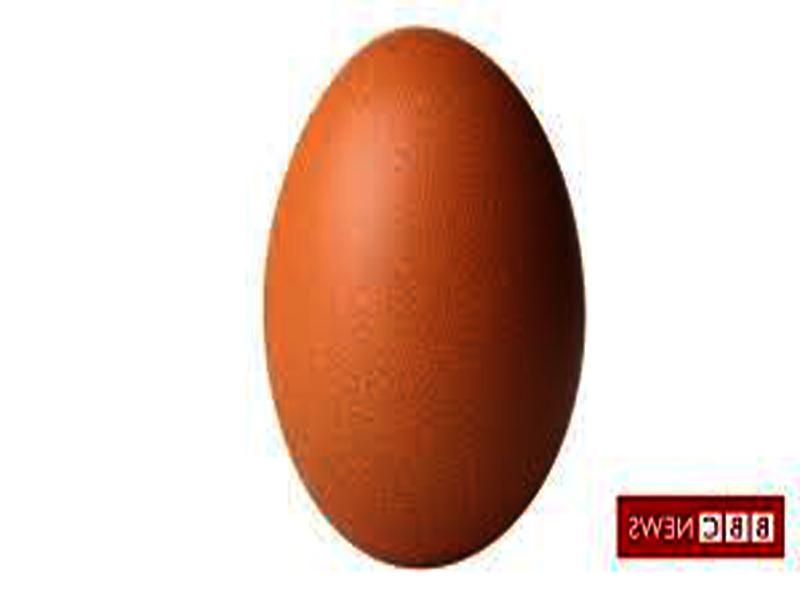Eggs: (263, 32, 583, 564)
